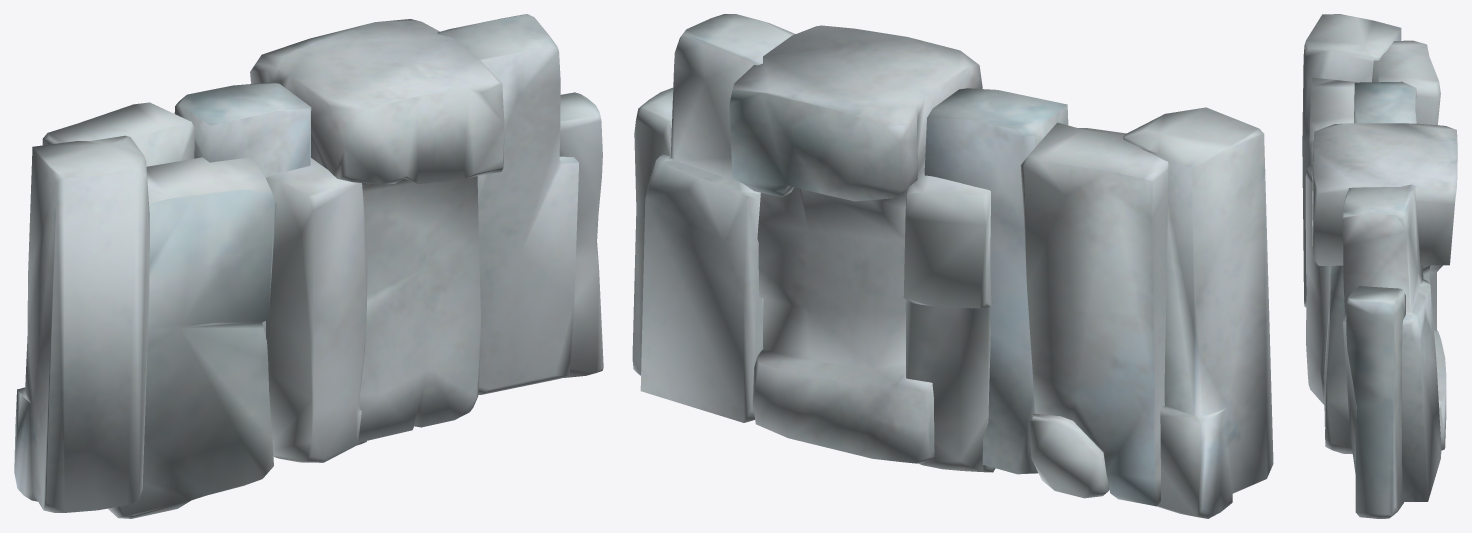
The model's file is P_CubicCliff14.obj.
3 views of the same model, side by side, from view 1: azimuth 30°, elevation 25°; view 2: azimuth 150°, elevation 25°; view 3: azimuth 270°, elevation 25° (orthographic). The views are drawn at different scales.
Size of the model in its own units: 80.97 by 47.75 by 23.
